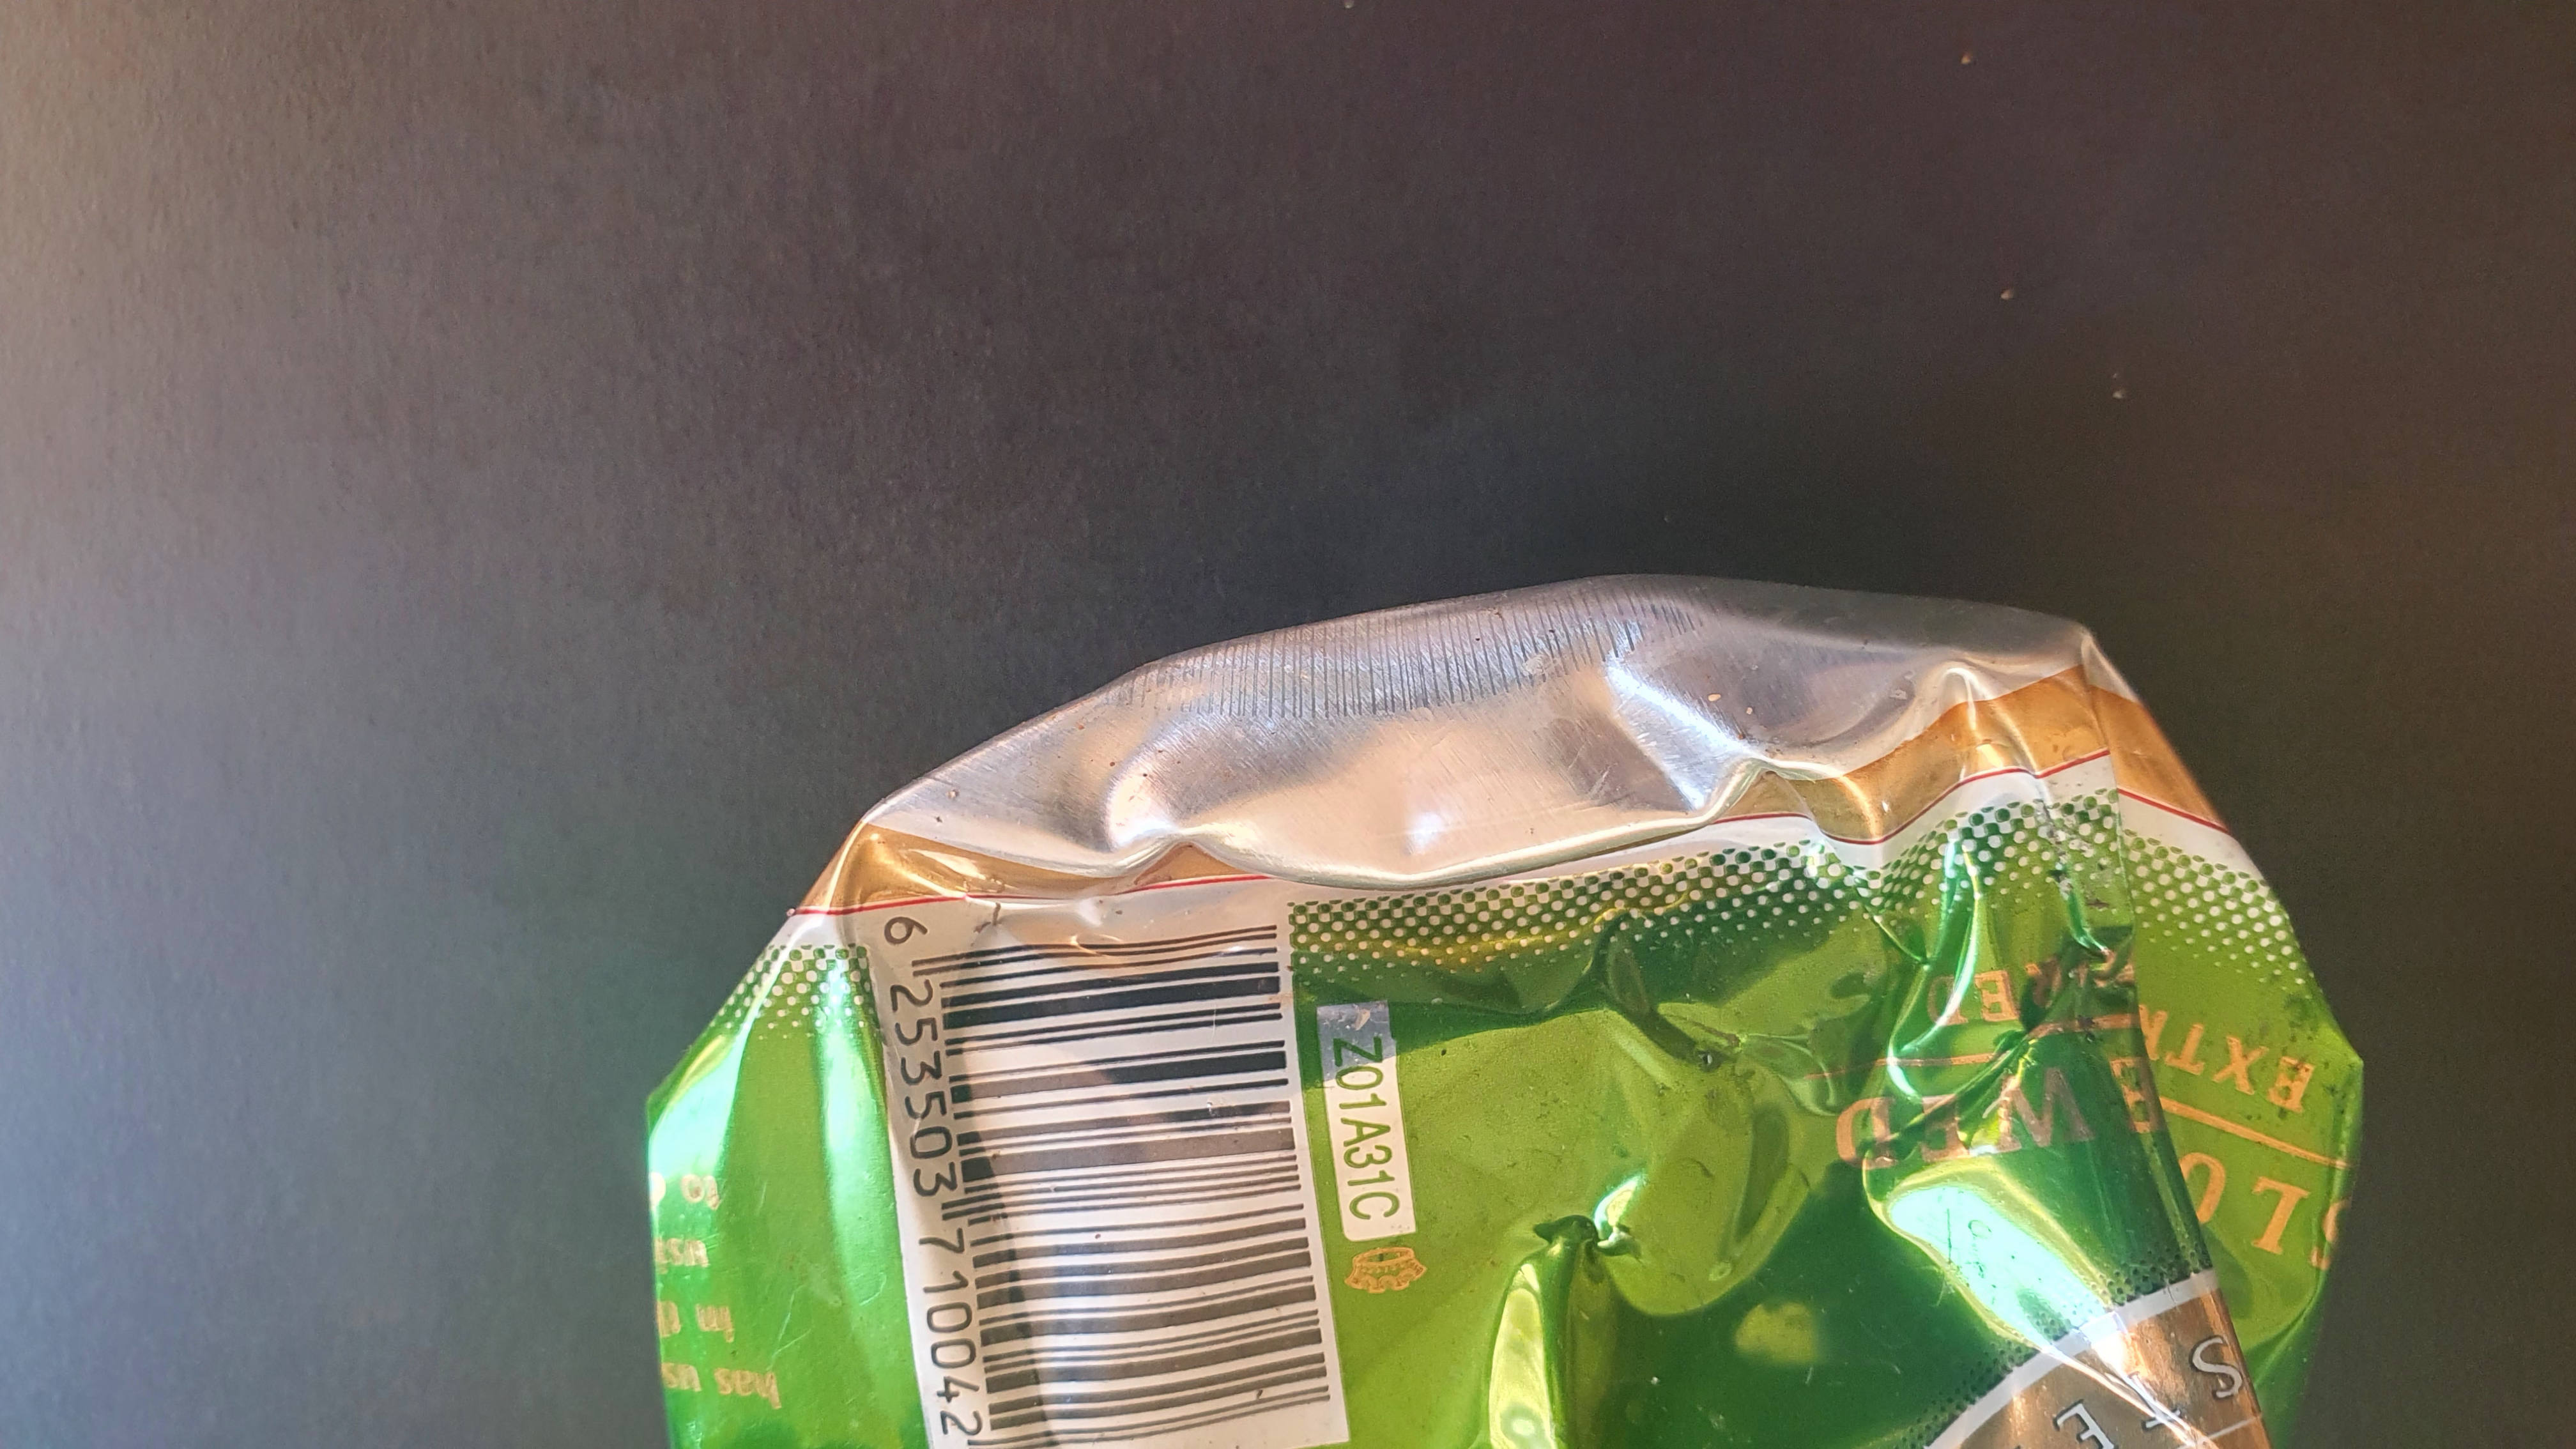metal: (605, 510, 2404, 1449)
